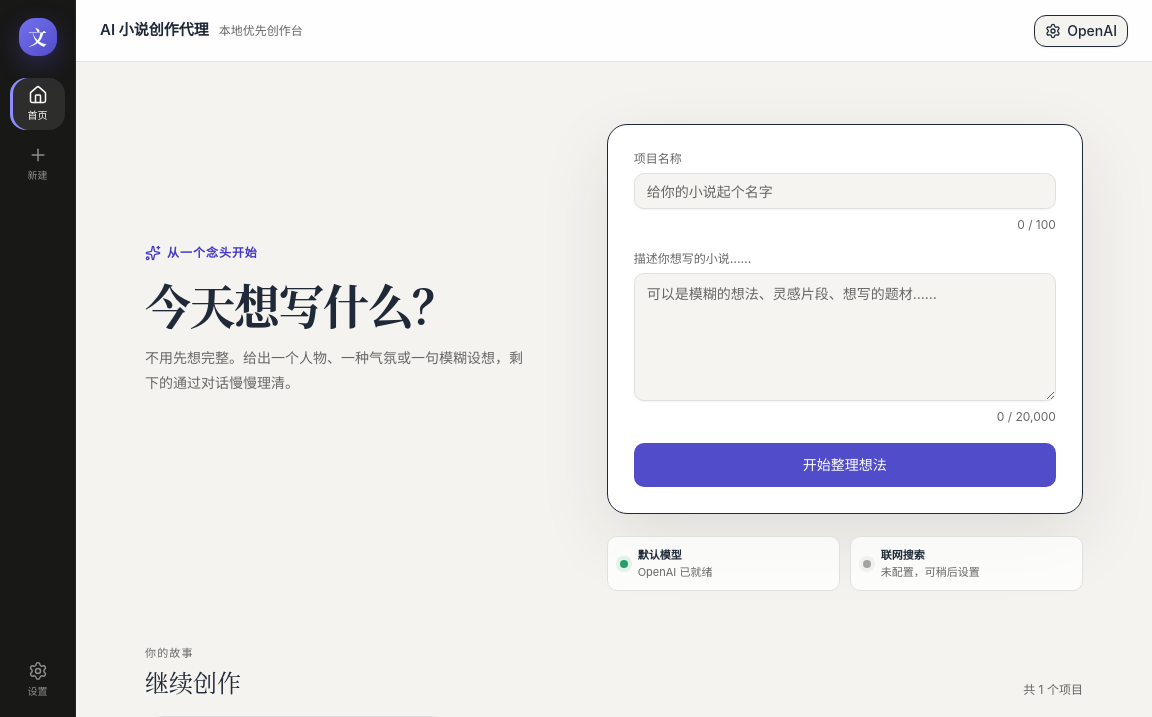
Test: App：展示阶段与推进阶段分离（D-B6-10 / D-B8-2，跨批次 blocker 回归） › frontier 在 blueprint 时挂 BlueprintRegion；点 JourneyNav 的调研仍能回看调研内容
Click the button with aria-label "新建项目" at (38, 164), box [10,138,65,190]
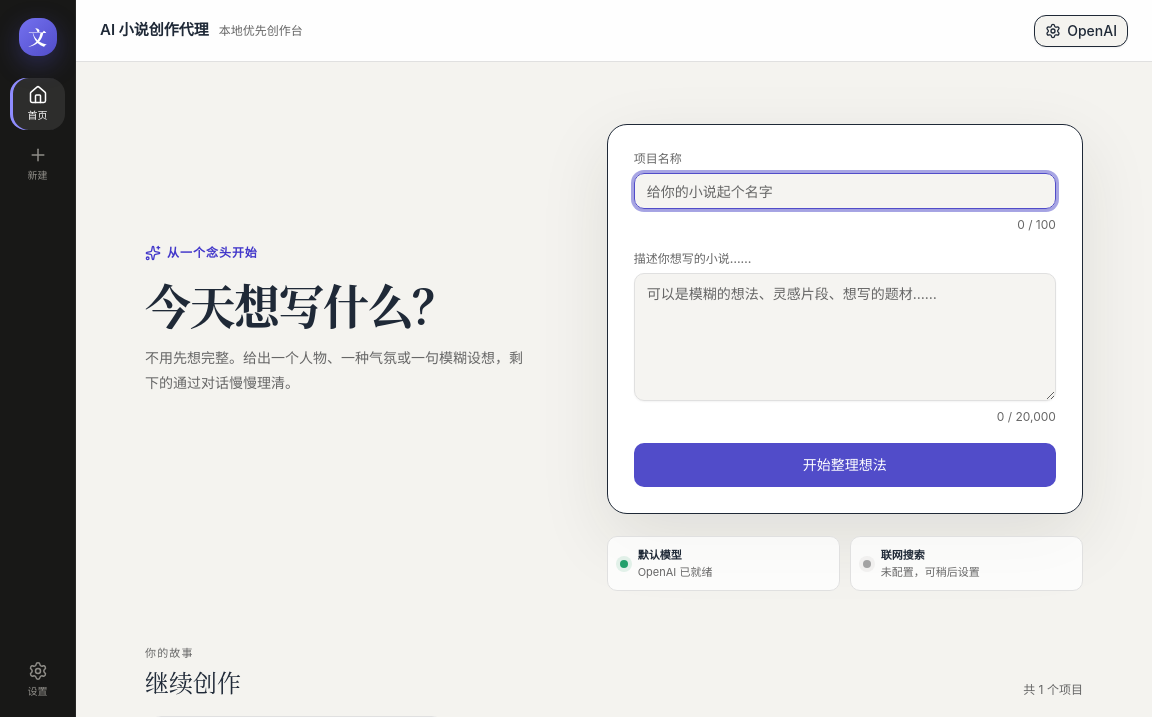
Type "测试项目" into the field labelled "项目名称" at (845, 191), box [634,173,1056,209]
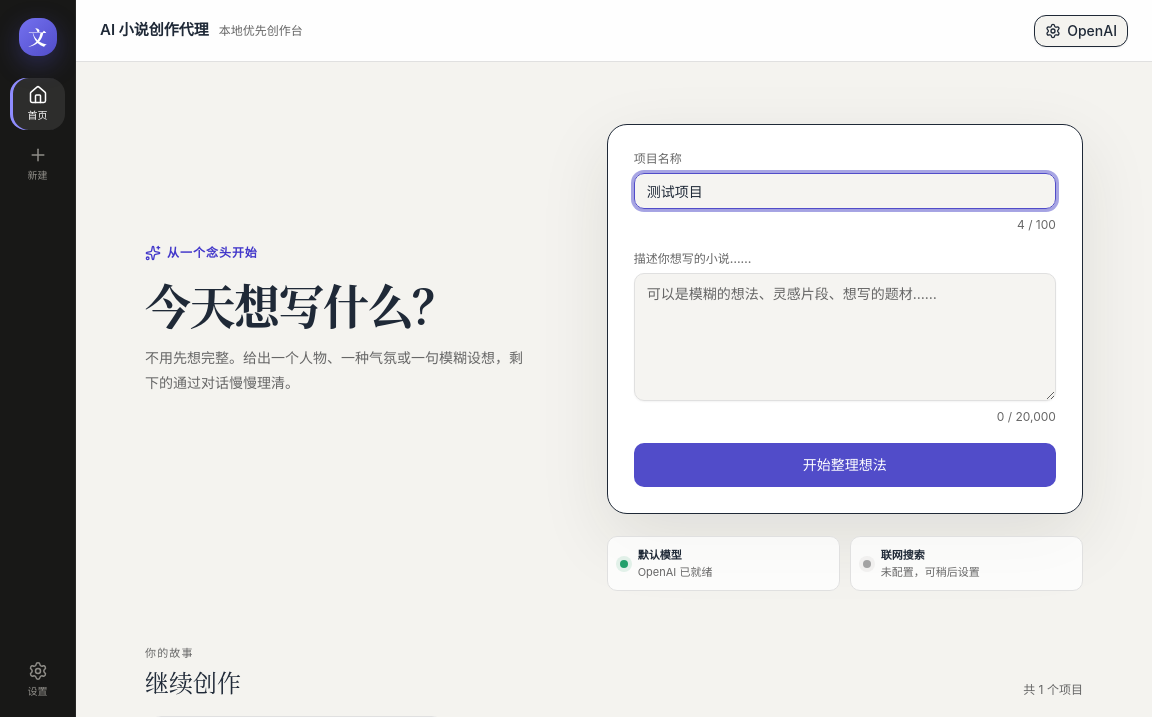
Type "测试想法" into the text box labelled "描述你想写的小说……" at (845, 337), box [634,273,1056,401]
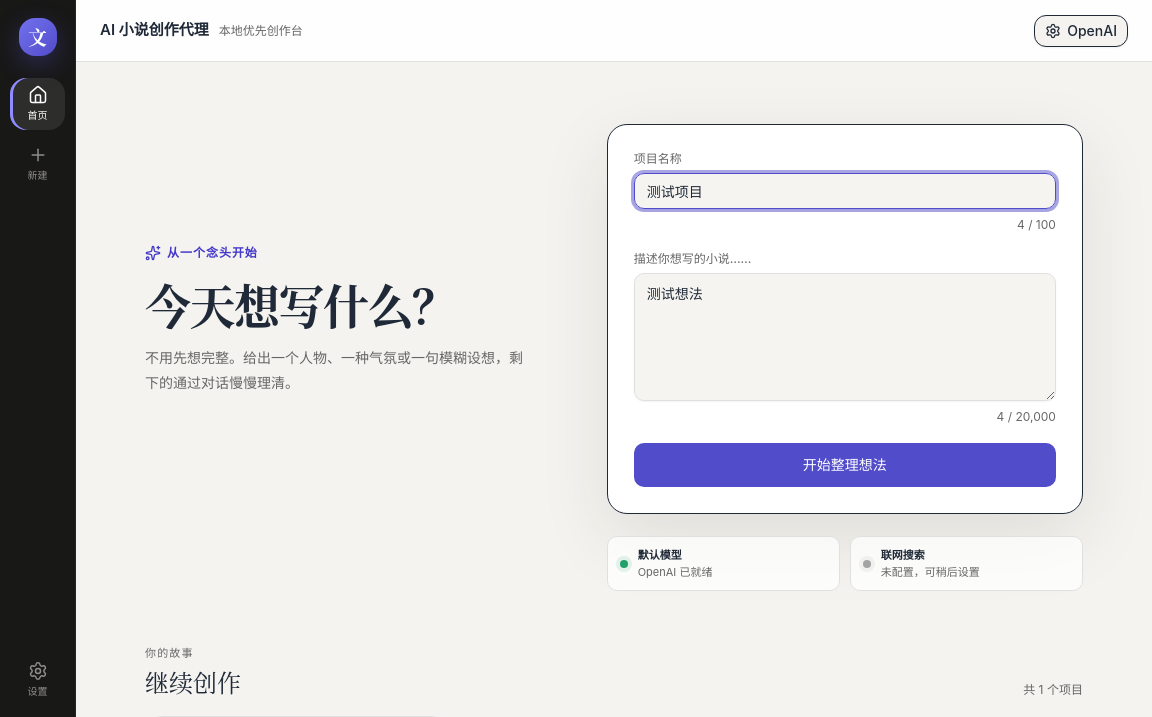
Click the button "开始整理想法" at (845, 465), box [634,443,1056,487]
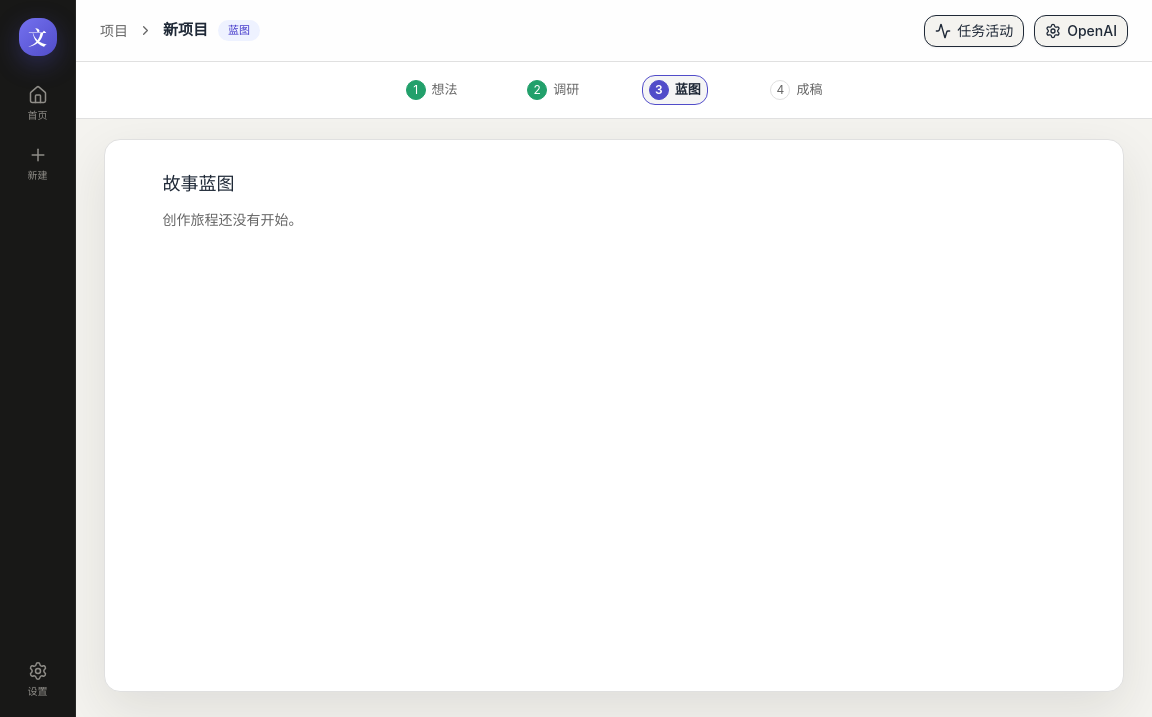
Expected: the heading "故事蓝图" is shown, [163,173,235,194]
Click the button "2 调研" at (553, 90), box [521,76,585,104]
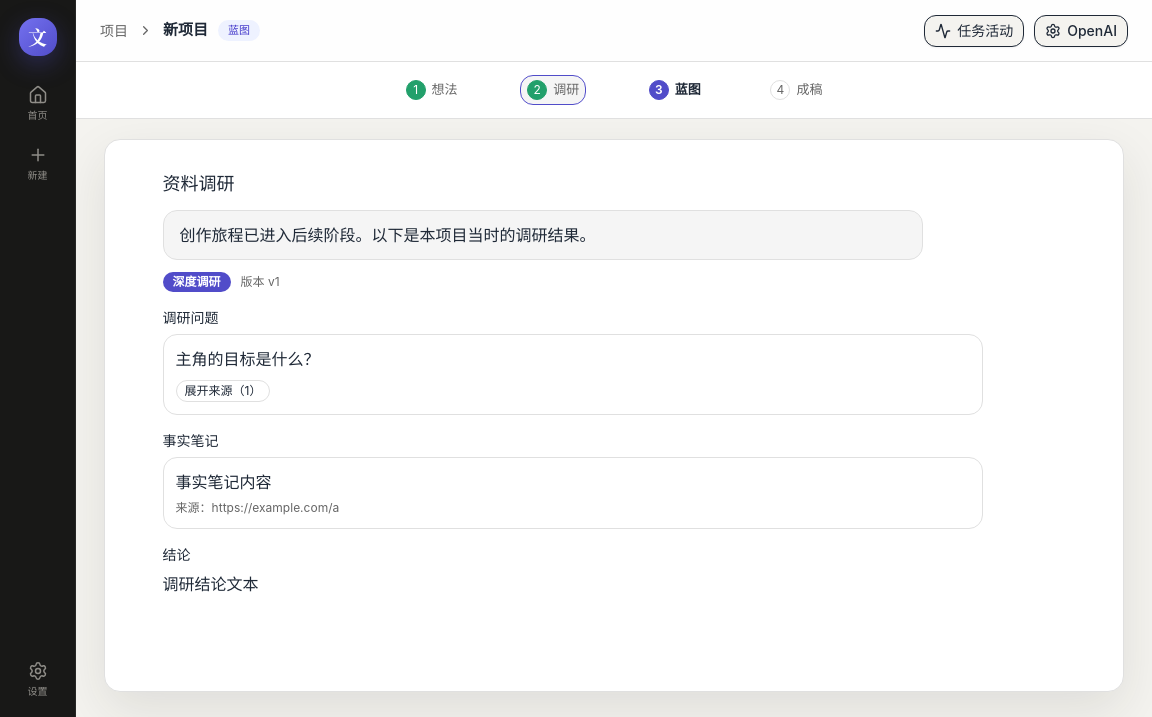
Expected: the text "主角的目标是什么？" is shown, [176,349,320,369]
Expected: the text "调研结论文本" is shown, [163,574,259,594]
Click the button "展开来源（1）" at (223, 391), box [176,380,270,402]
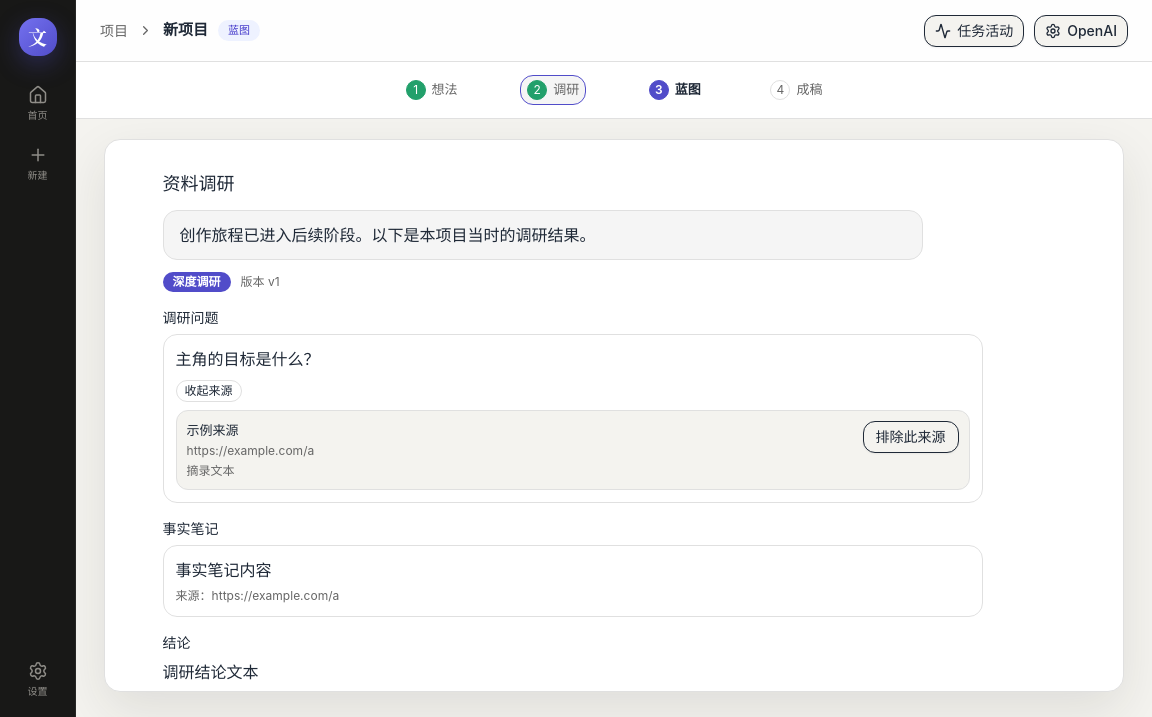
Expected: the text "https://example.com/a" is shown, [187,442,314,458]
Expected: the button "排除此来源" is shown, [863,421,959,453]
